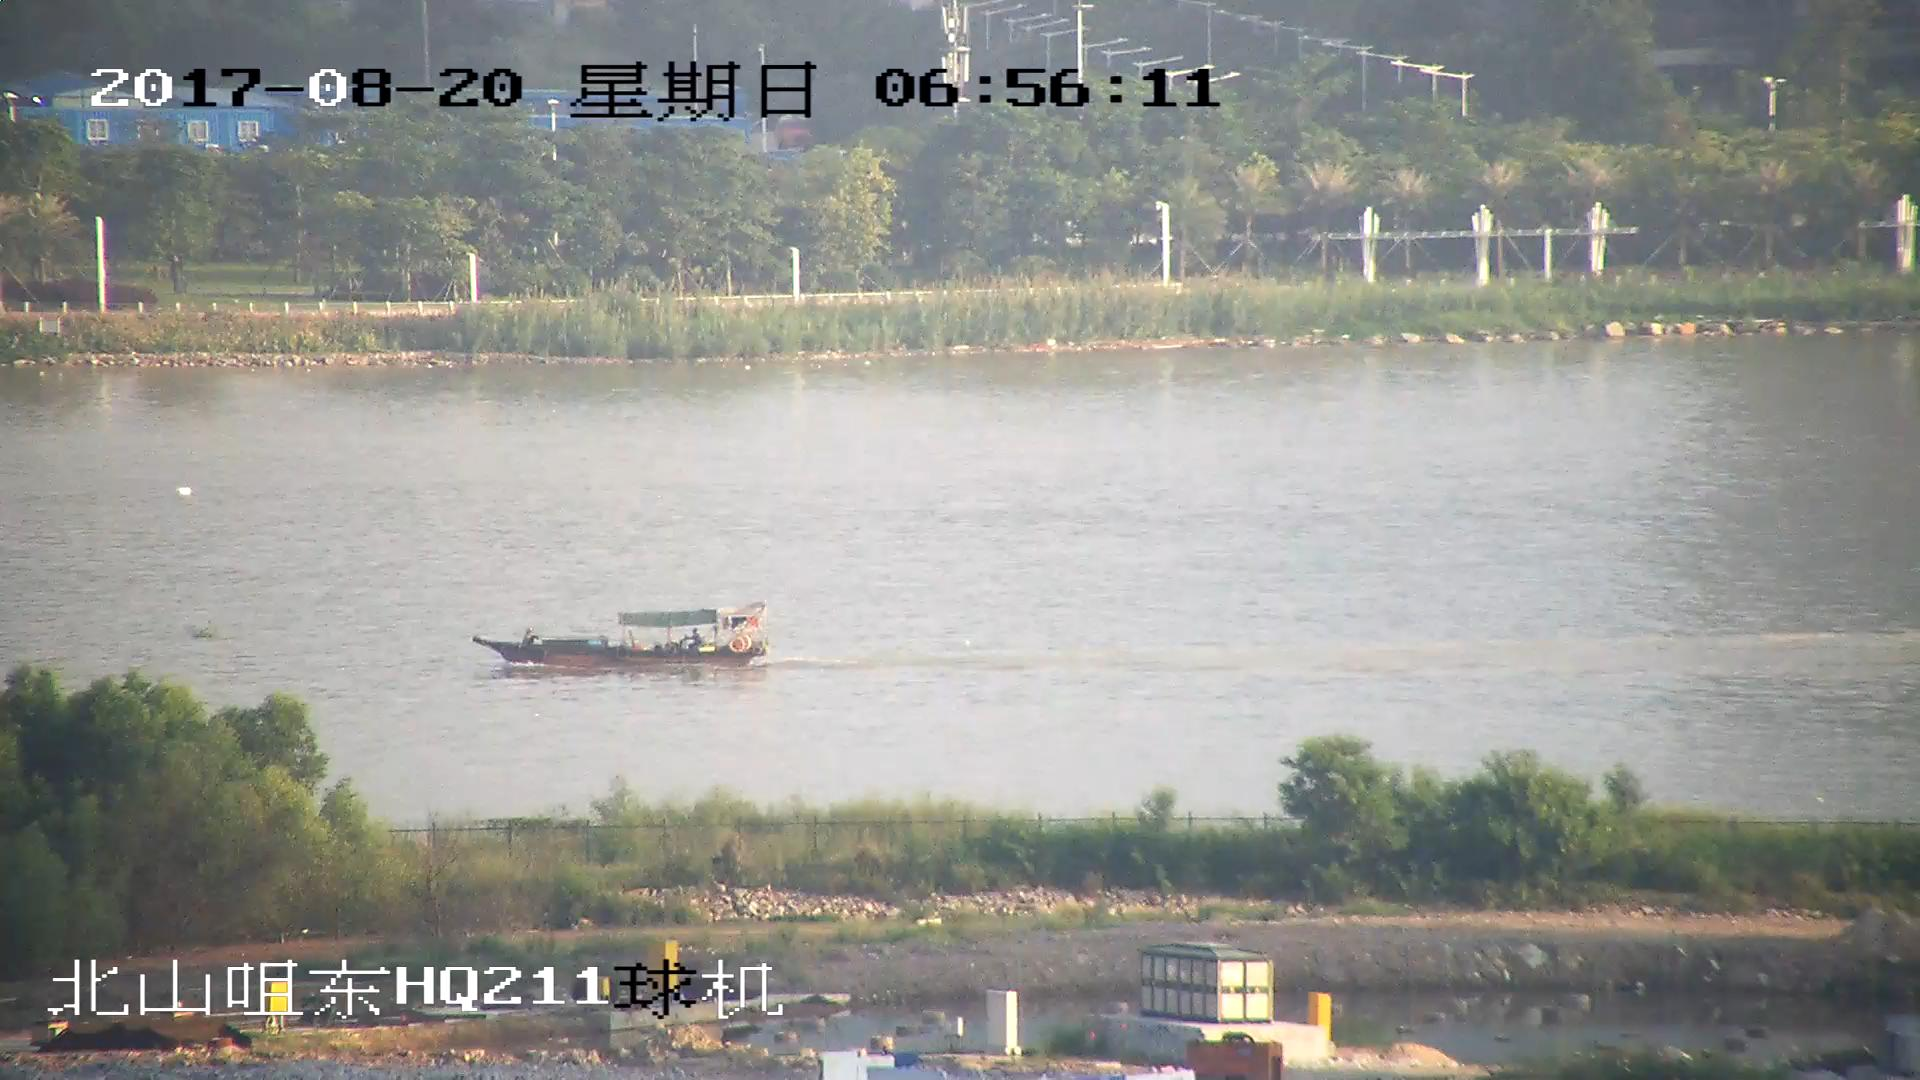fishing boat: (473, 608, 767, 668)
